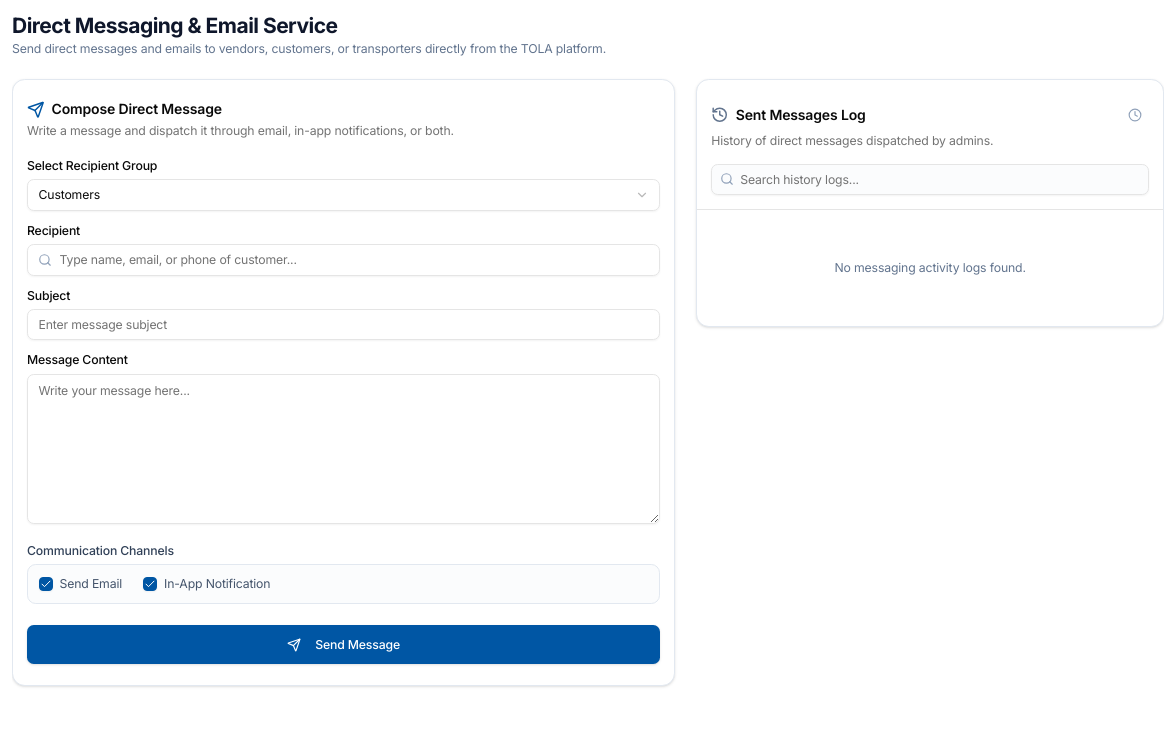
Test: MessagingTab › recipient search › clears the selected recipient from the remove button
Type "asha" into the field with placeholder "Type name, email, or phone of customer..." at [344, 260], box [27,244,660,276]
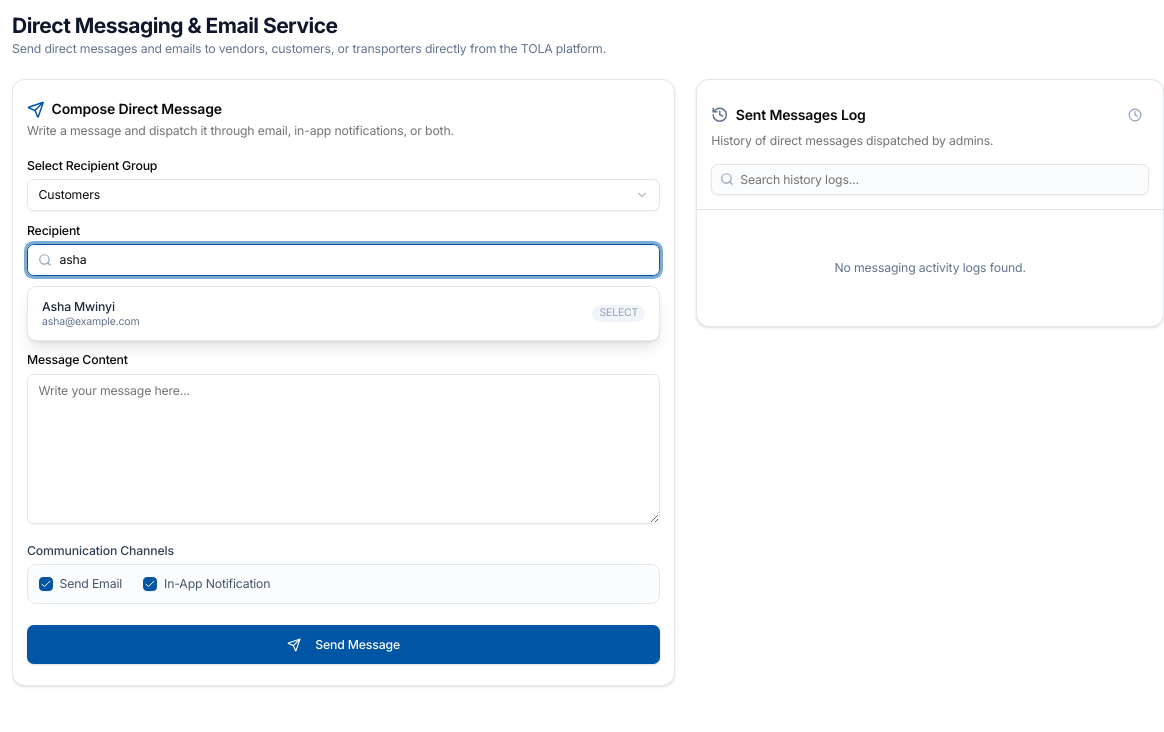
Click the text "Asha Mwinyi" at [78, 306], box [42,298,115,314]
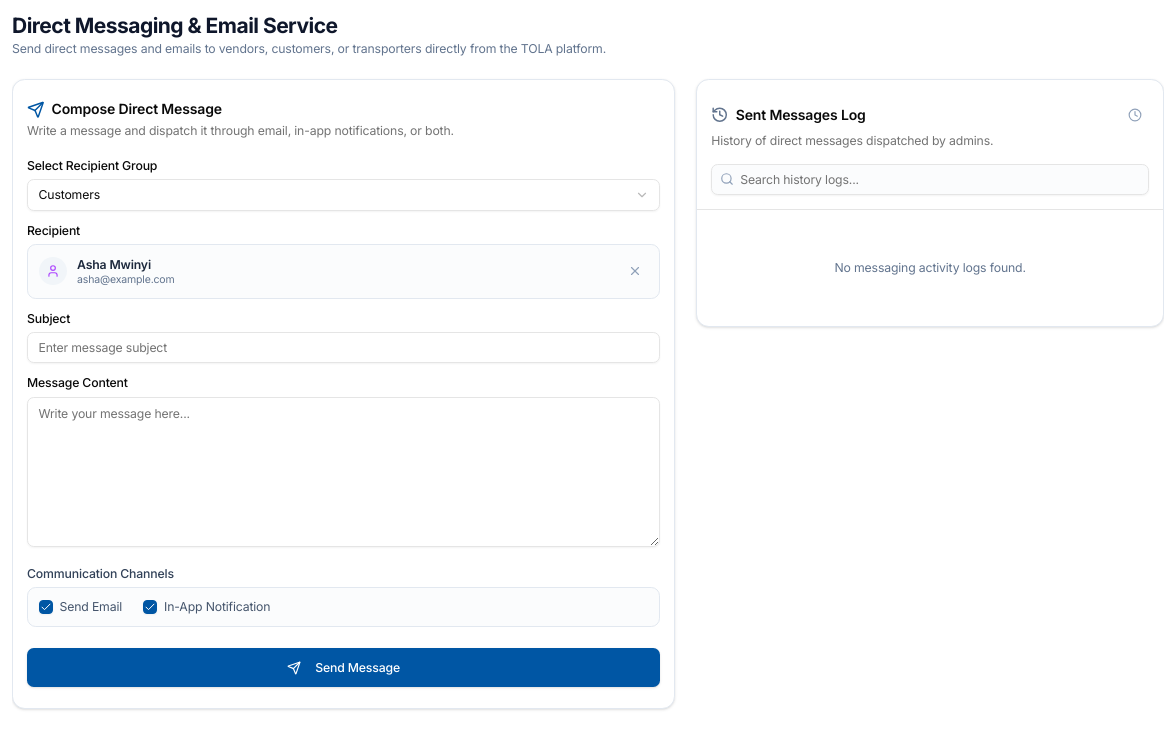
Click the button without text in the row of "asha@example.com" at [635, 271], box [621,257,649,285]
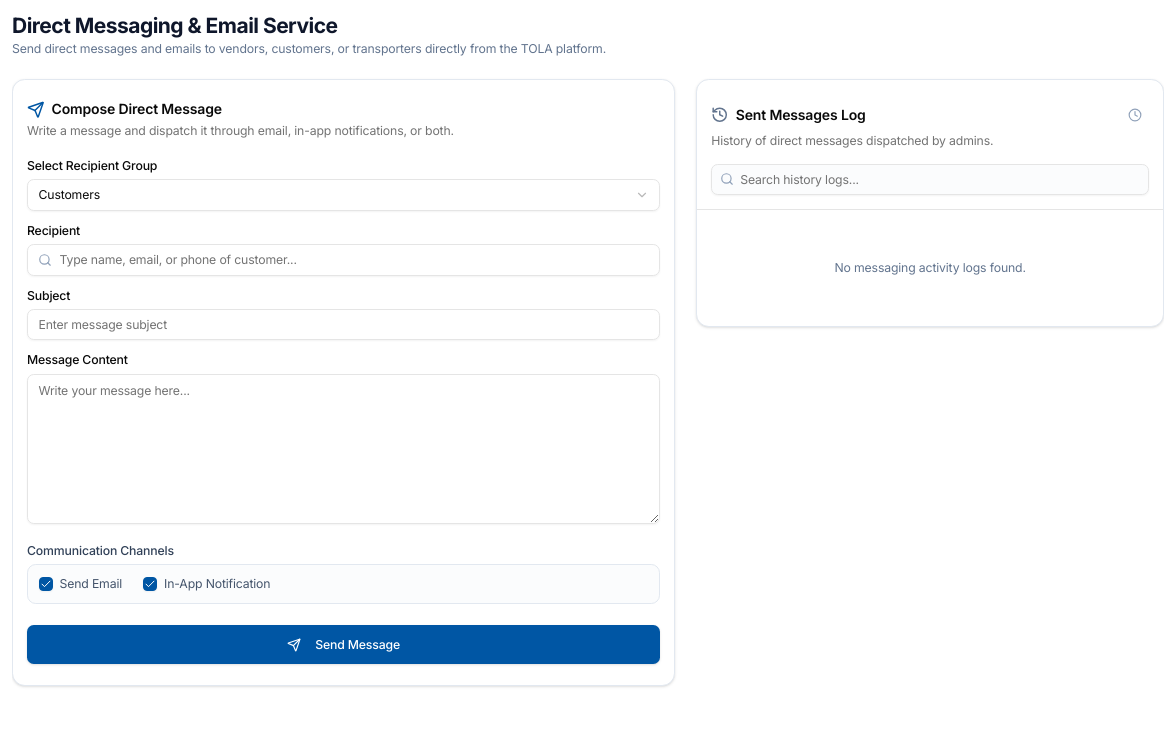
Check: the field with placeholder "Type name, email, or phone of customer..." is shown, box [27,244,660,276]
